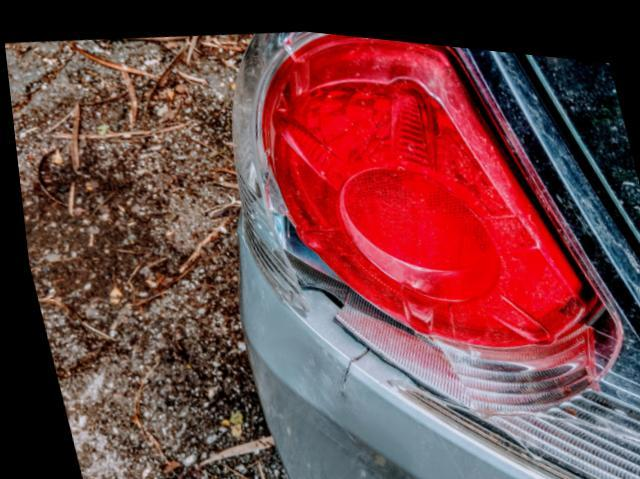crack: (332, 342, 364, 394)
lamp broken: (230, 25, 640, 479)
